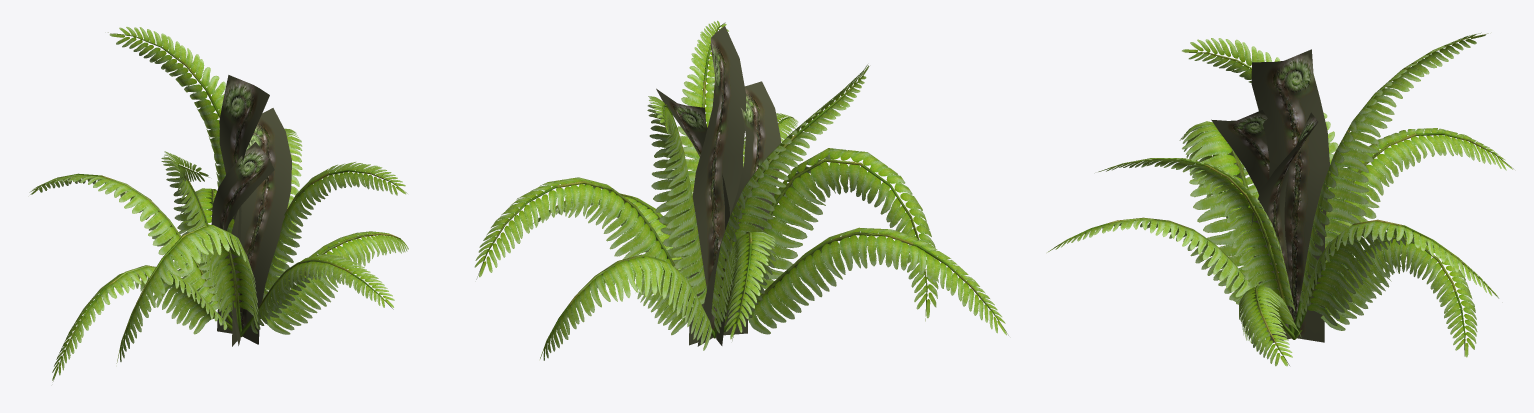
The model's file is BostonFern.obj.
3 views of the same model, side by side, from view 1: azimuth 30°, elevation 25°; view 2: azimuth 150°, elevation 25°; view 3: azimuth 270°, elevation 25° (orthographic). The views are drawn at different scales.
Visible parts, largest first — view 1: Boston_Fern_Hero_29_Mesh.004; view 2: Boston_Fern_Hero_29_Mesh.004; view 3: Boston_Fern_Hero_29_Mesh.004.
Boxes of the visible parts, <box> form: Boston_Fern_Hero_29_Mesh.004: <box>29,27,408,381</box>; Boston_Fern_Hero_29_Mesh.004: <box>474,20,1008,360</box>; Boston_Fern_Hero_29_Mesh.004: <box>1047,32,1513,366</box>.
Size of the model in its own units: 0.4396 by 0.2974 by 0.4184.
Materials: 3 (3 with a texture image).
